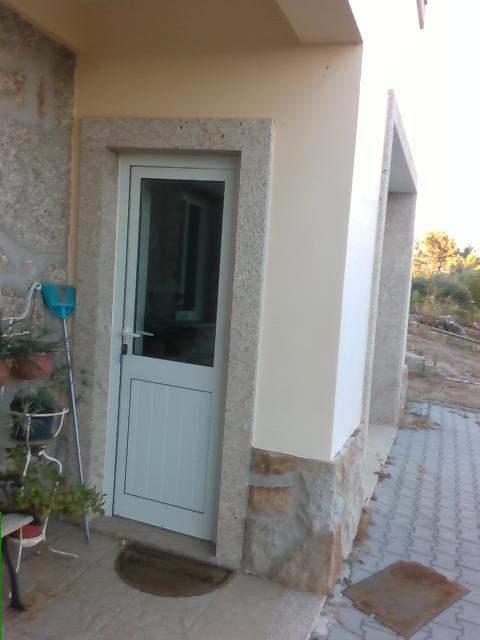door: (105, 147, 241, 543)
